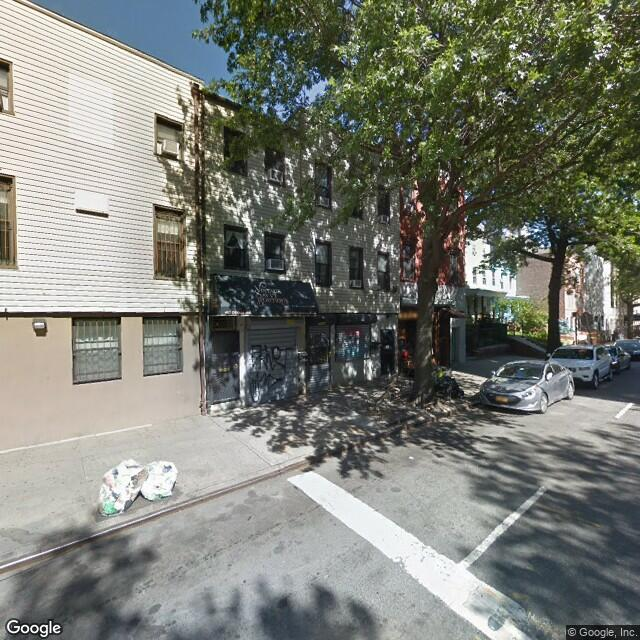litter: (99, 460, 186, 524)
